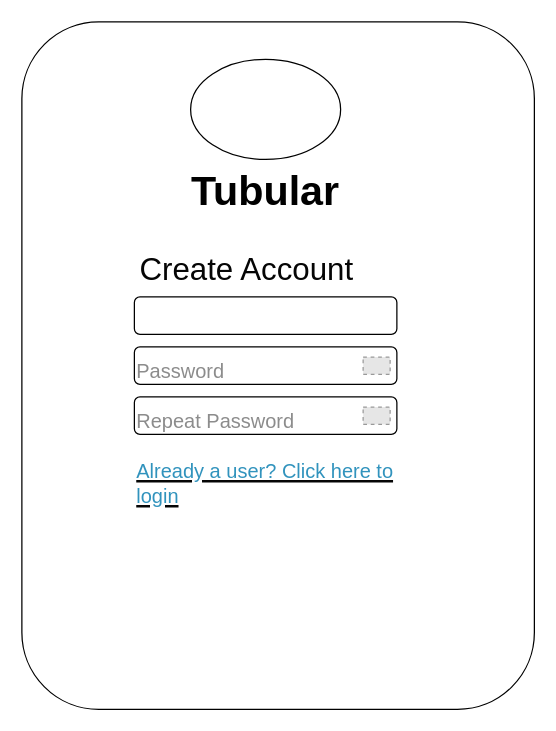
This 556x731 diagram has some shape labels left out. Grey dashed boxes stand in for pictures. Here are the shapes that lost their labels. From the top down, the box of each, then its label:
(189, 58, 341, 159): Logo
(133, 296, 397, 334): User name
